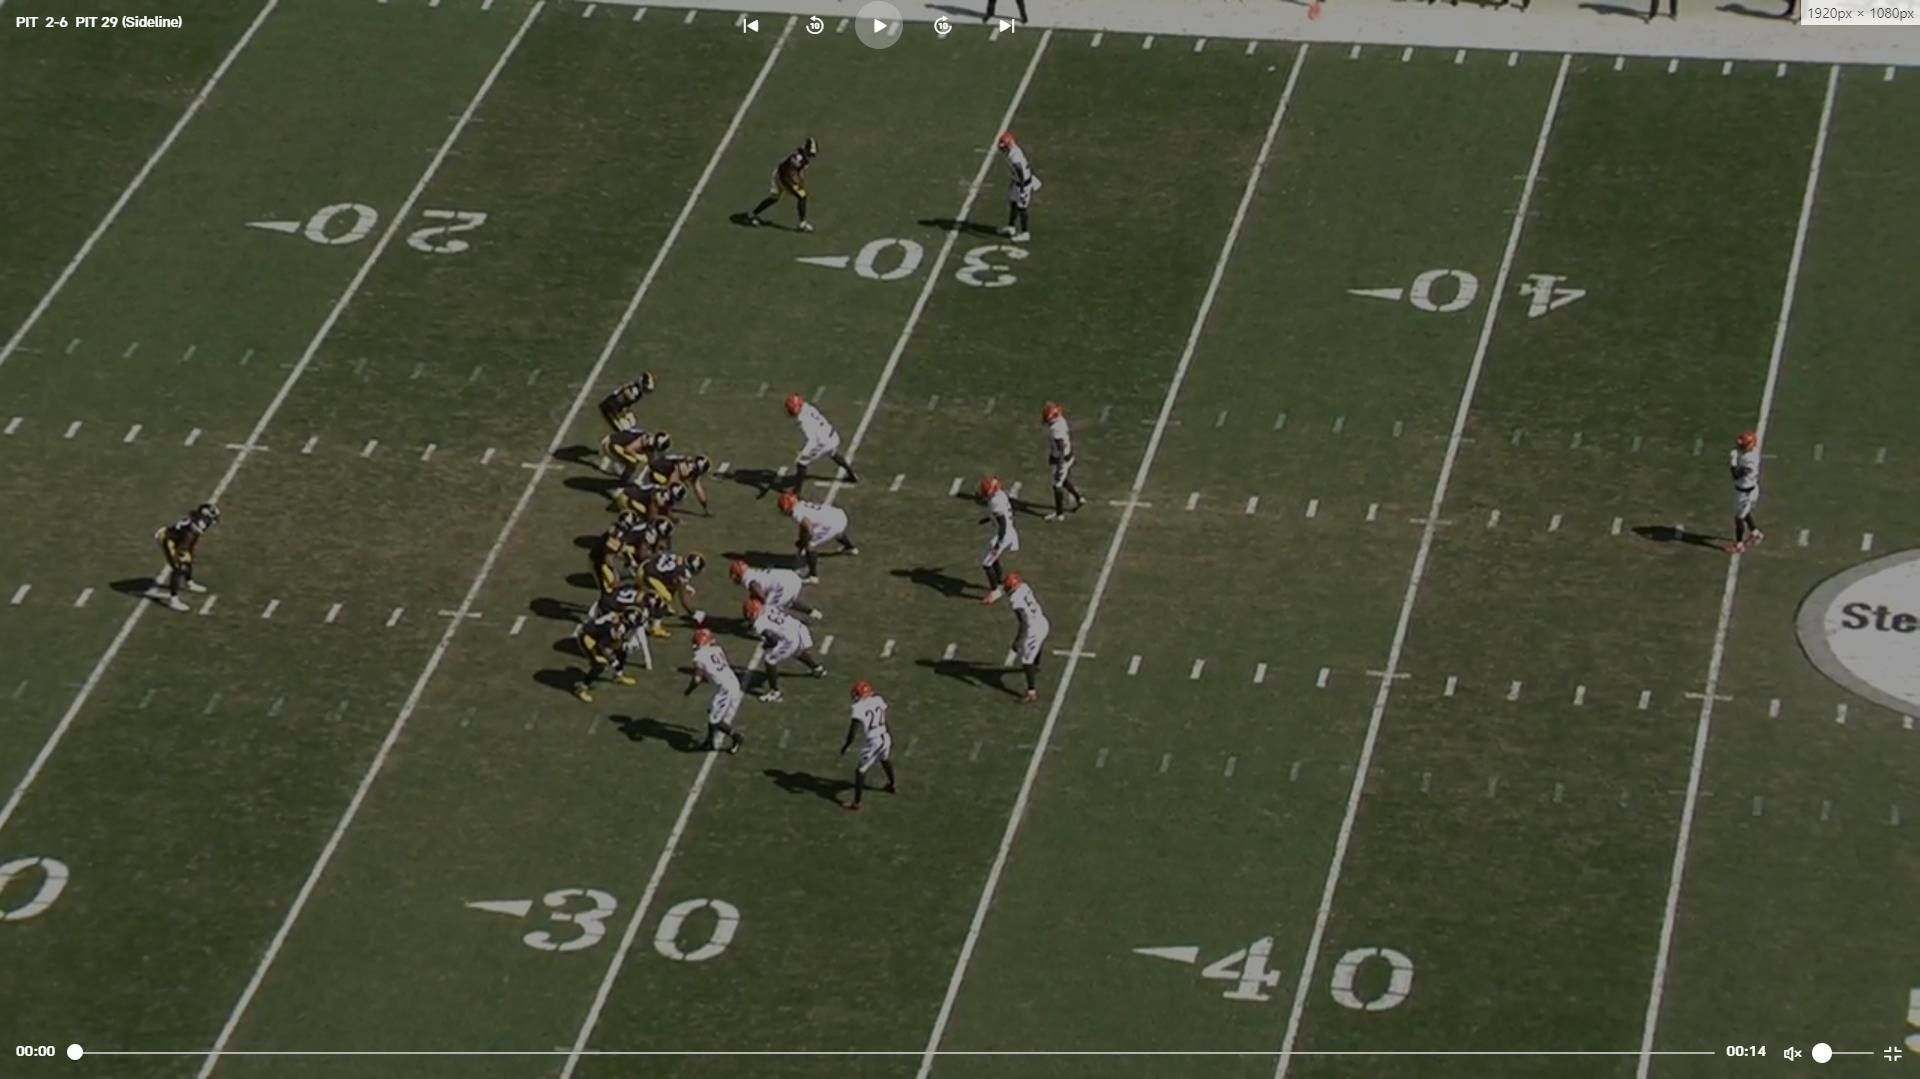defense: (781, 392, 862, 505), (836, 682, 902, 820), (744, 603, 828, 706), (692, 632, 756, 765), (965, 472, 1018, 611), (725, 555, 820, 631), (1004, 572, 1055, 708), (782, 489, 858, 580), (998, 129, 1047, 253), (1040, 402, 1087, 526), (1721, 429, 1767, 550)
oline: (567, 601, 646, 706), (583, 584, 663, 671), (640, 550, 708, 637), (605, 514, 671, 572), (621, 476, 688, 521)
qb: (588, 516, 640, 596)
skill: (742, 132, 829, 237), (149, 501, 223, 616), (600, 426, 674, 501), (642, 452, 717, 518), (599, 372, 658, 446)
